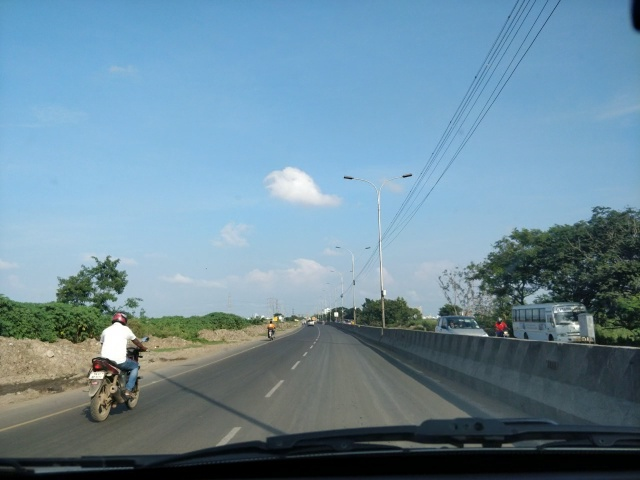car: (428, 308, 488, 346), (303, 317, 316, 327)
motorbike: (82, 309, 153, 420), (494, 315, 511, 345), (265, 319, 278, 342)
truck: (507, 294, 592, 346)
